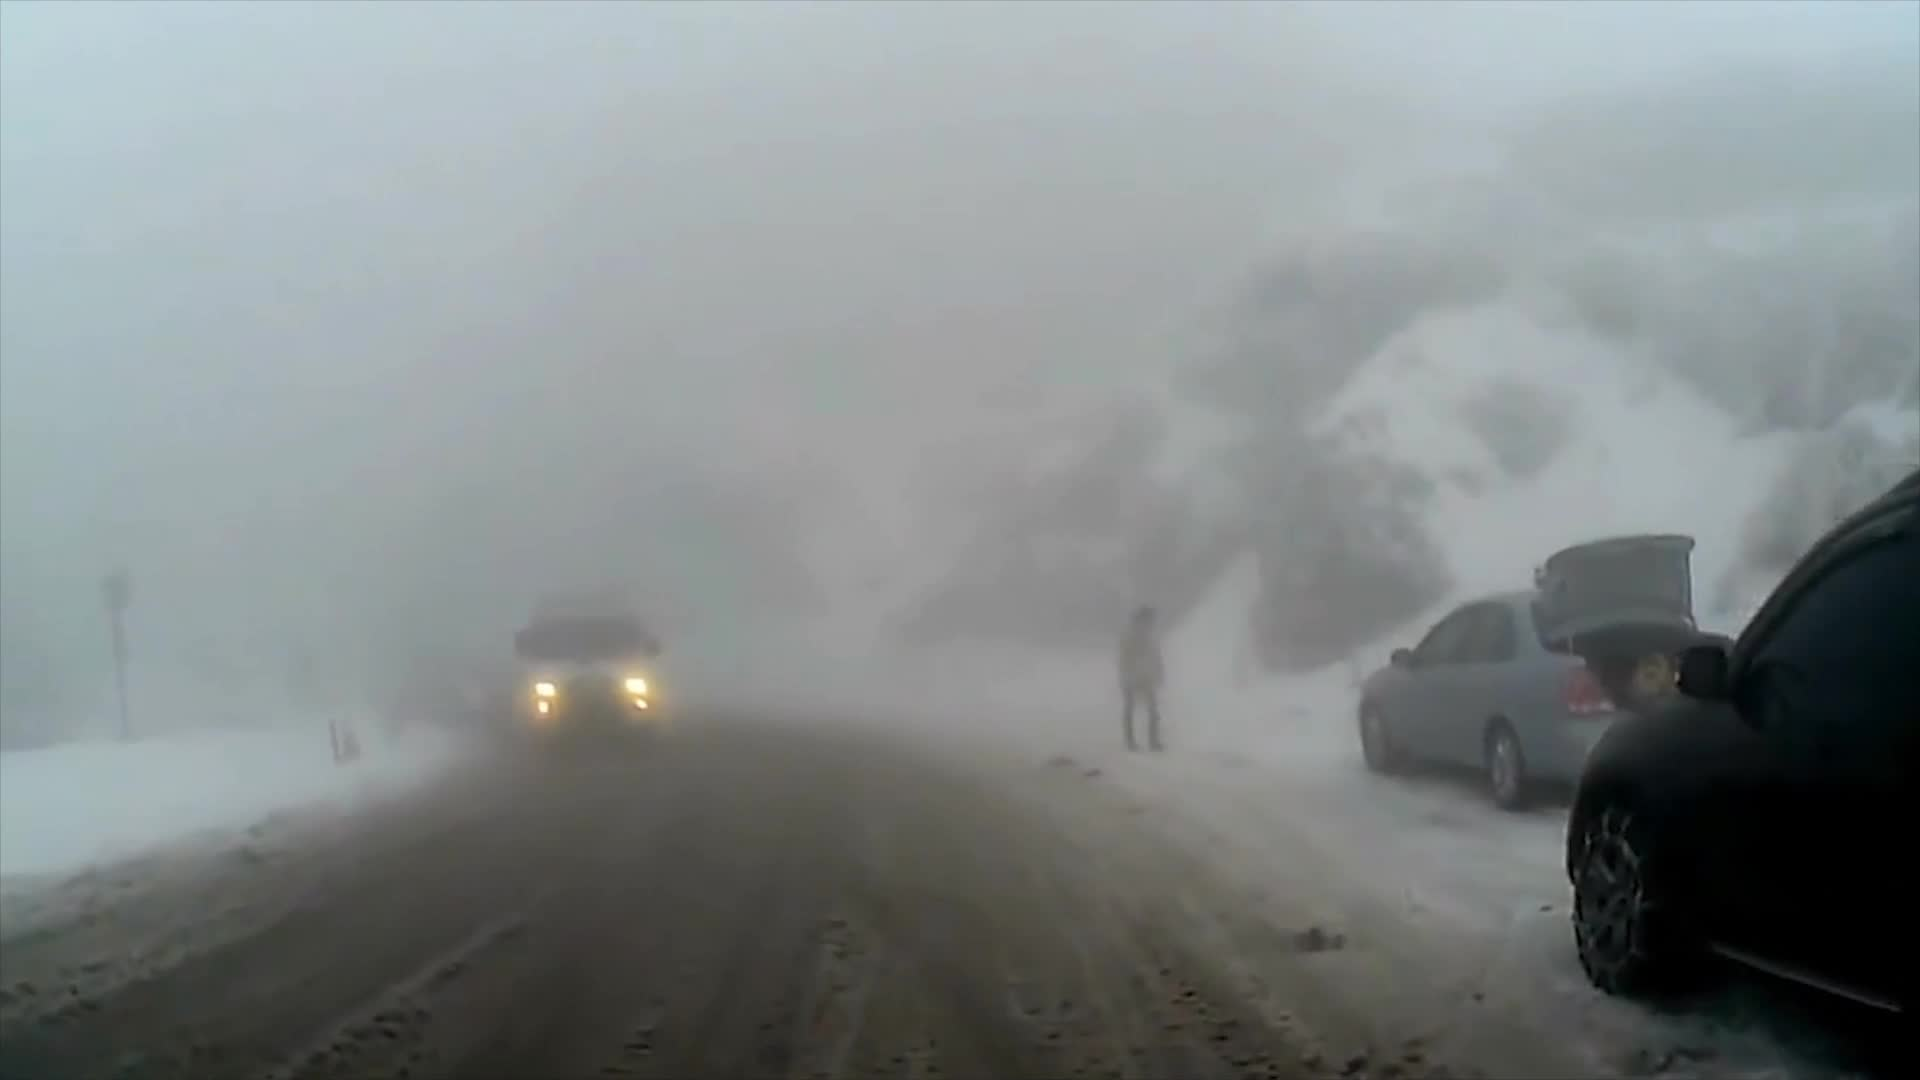pedestrian: (1119, 606, 1171, 751)
vehicle: (1569, 469, 1920, 1080), (1359, 527, 1737, 817), (512, 593, 665, 760)
